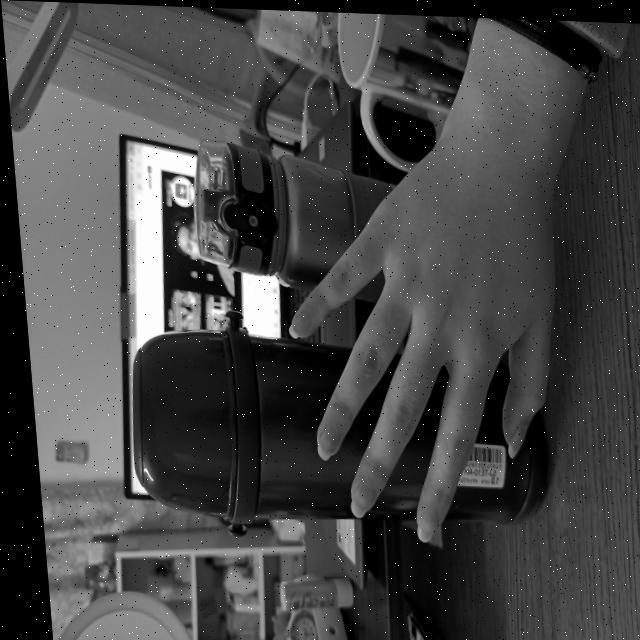no-gloves: (268, 96, 578, 542)
